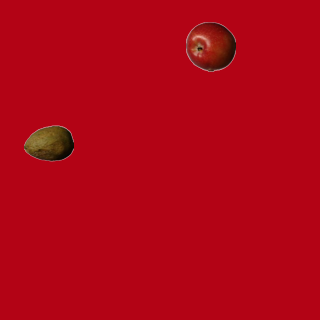Apple Braeburn: (185, 21, 235, 71)
Papaya: (23, 118, 73, 168)
